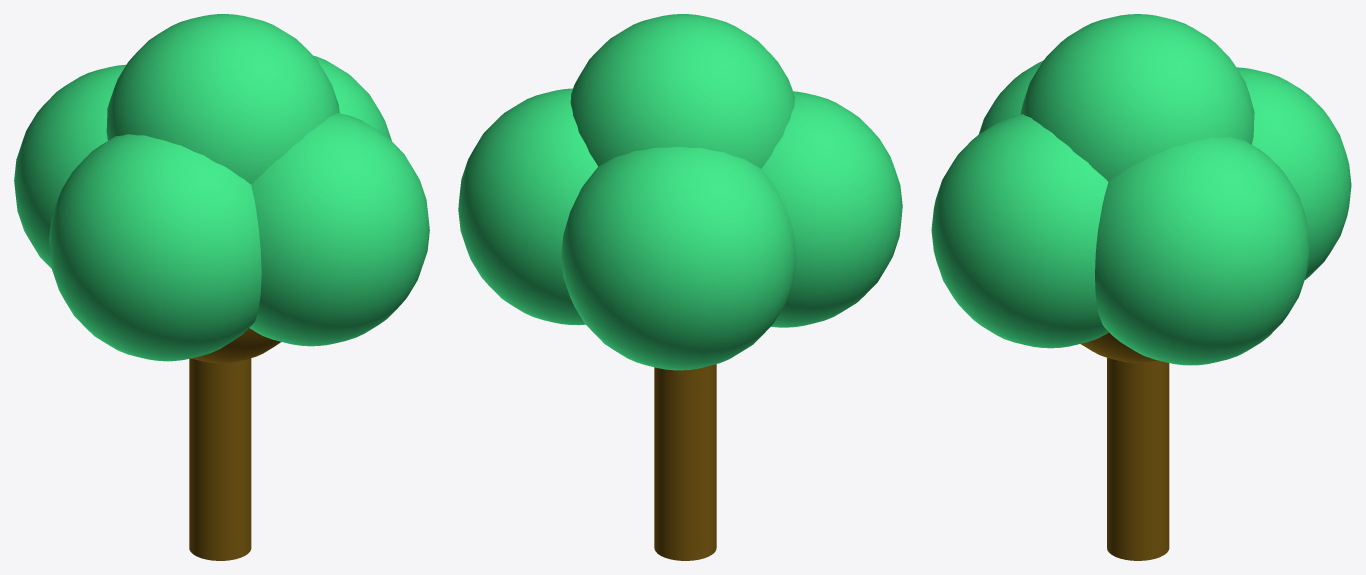
File: F_tree001.fbx
3 views of the same model, side by side, from view 1: azimuth 30°, elevation 25°; view 2: azimuth 150°, elevation 25°; view 3: azimuth 270°, elevation 25° (orthographic).
Visible parts, largest first — view 1: 구체.003; view 2: 구체.003; view 3: 구체.003.
Boxes of the visible parts, bbox=[...] form: 구체.003: bbox=[14, 14, 429, 560]; 구체.003: bbox=[458, 14, 902, 560]; 구체.003: bbox=[931, 14, 1351, 560].
Size of the model in its own units: 354 by 486 by 353.
